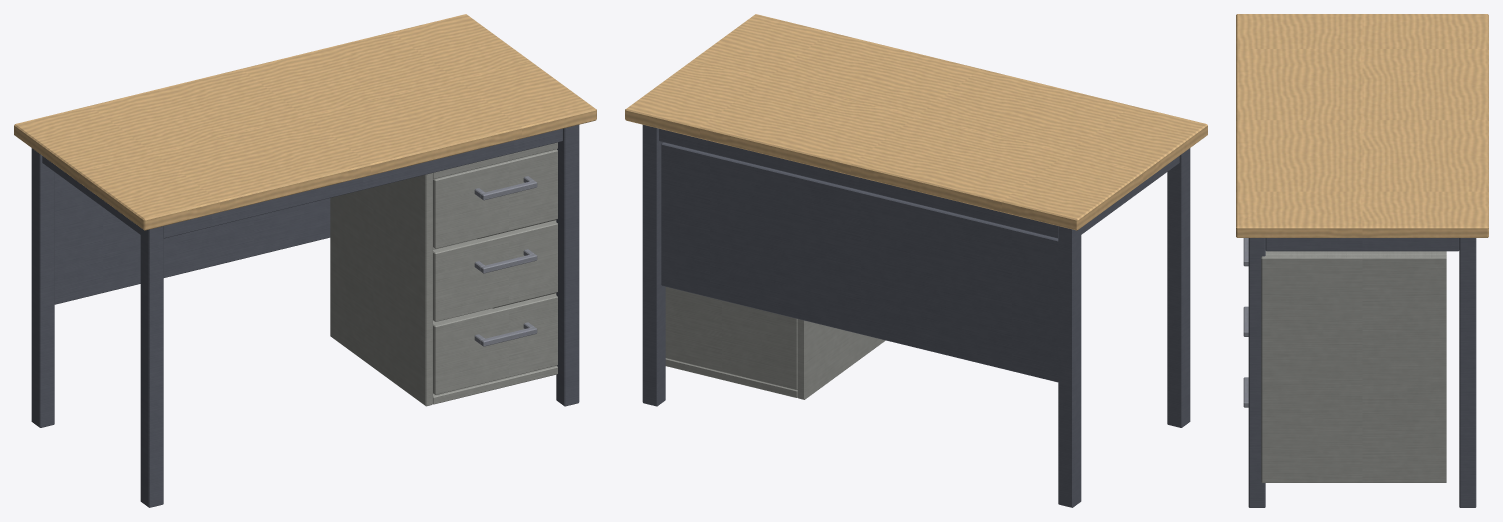
The model's file is office_desk.glb.
3 views of the same model, side by side, from view 1: azimuth 30°, elevation 25°; view 2: azimuth 150°, elevation 25°; view 3: azimuth 270°, elevation 25° (orthographic). The views are drawn at different scales.
Visible parts, largest first — view 1: office_desk.001; view 2: office_desk.001; view 3: office_desk.001.
Part boxes in pixels (x1,y1,x2,y2): office_desk.001: (14,14,596,507); office_desk.001: (625,14,1207,507); office_desk.001: (1236,14,1488,507).
Size of what is drawn, in the model's own units: 1.2 by 0.75 by 0.6.
4 materials, 4 textured.
